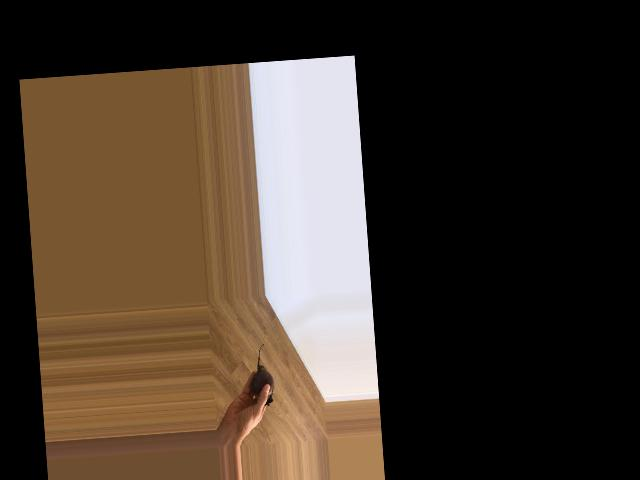beet: (248, 343, 275, 407)
